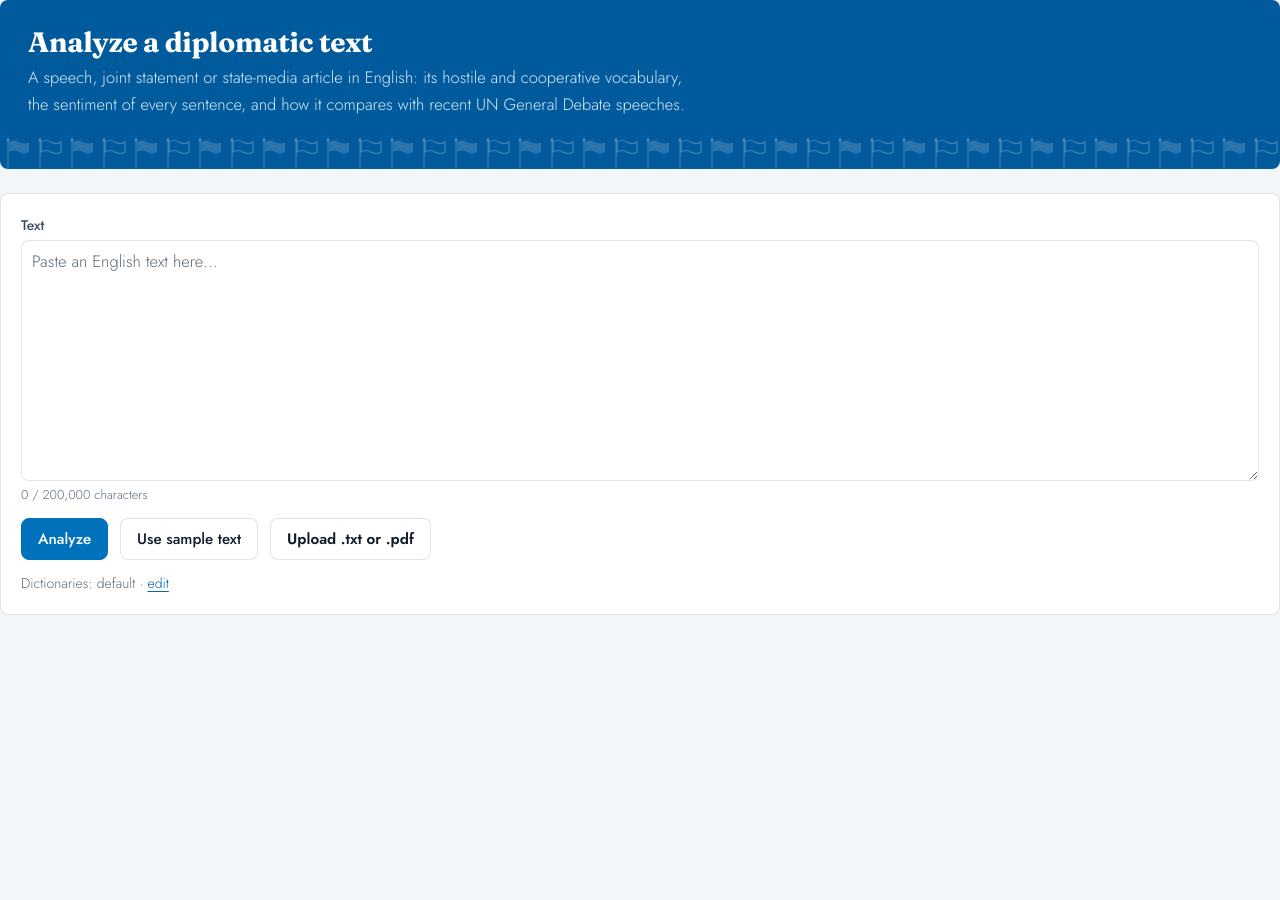
Test case: AnalyzePage › analyzes the sample text and shows scores, highlights and sentences
The width and height of the screenshot is (1280, 900).
Click the button "Use sample text" at coordinates (189, 539), box [120, 518, 258, 560]
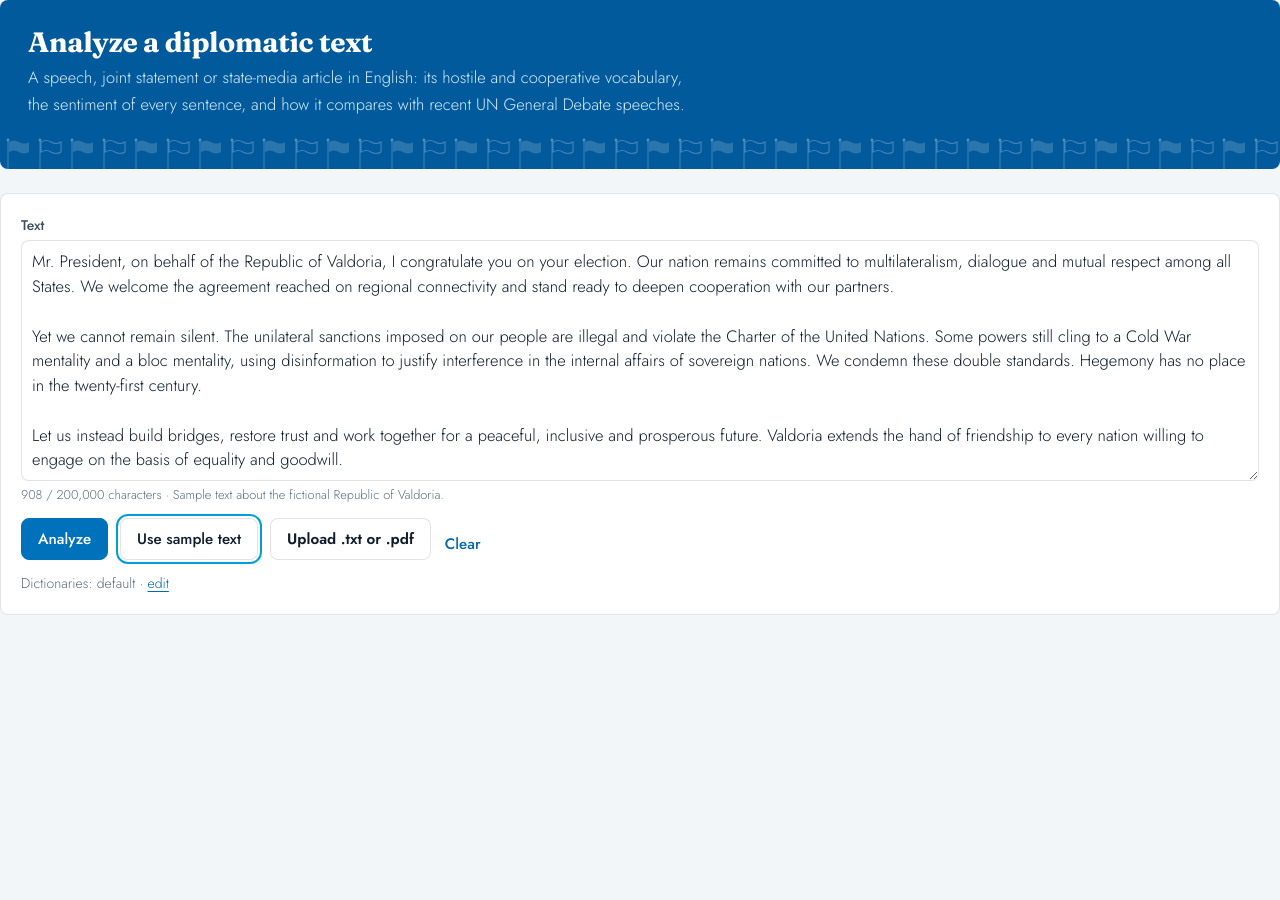
Click the button "Analyze" at coordinates (65, 539), box [21, 518, 108, 560]
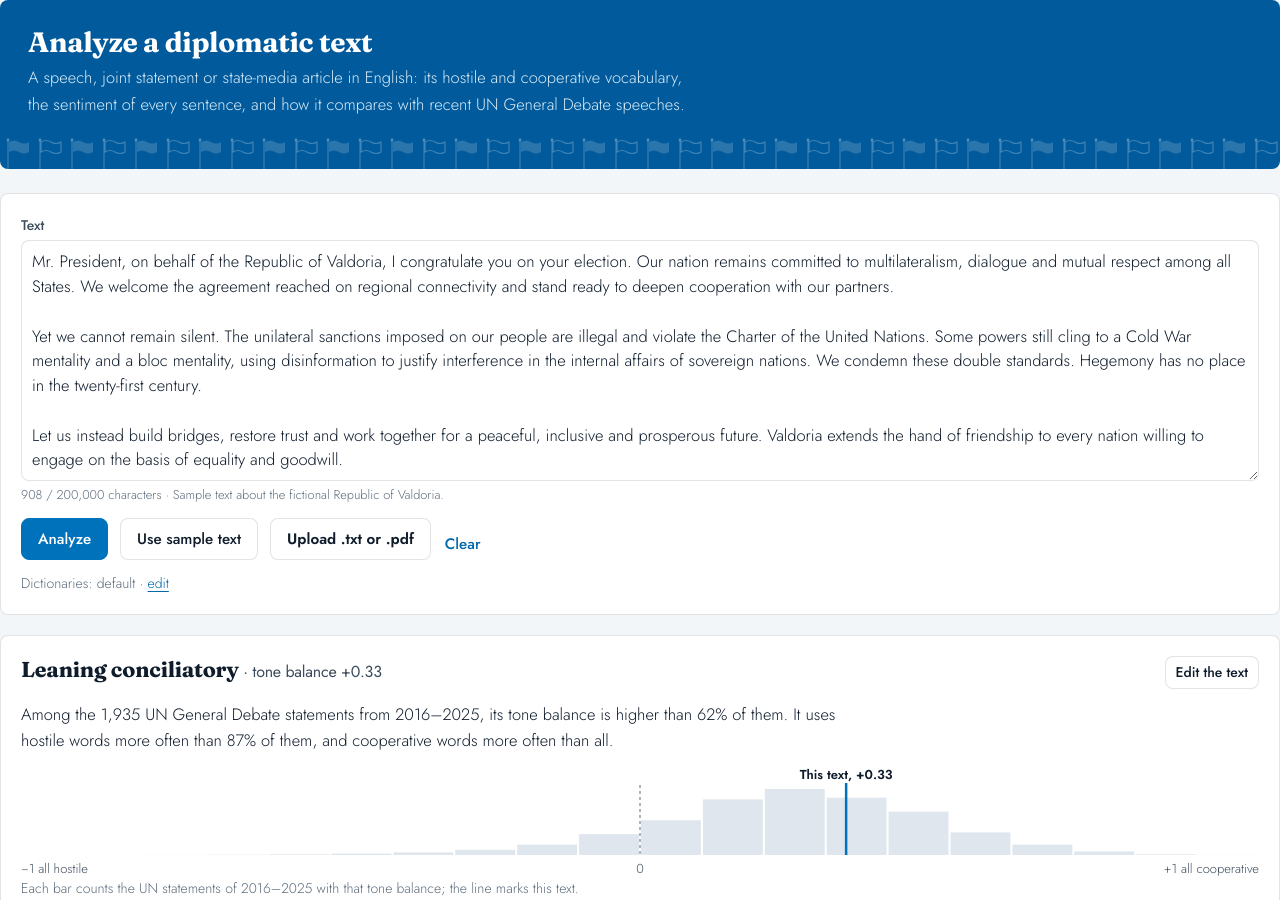
Expected: the text with test id "baseline-sentence" shows "hostile words more often than 87% of them", [21, 701, 882, 754]
